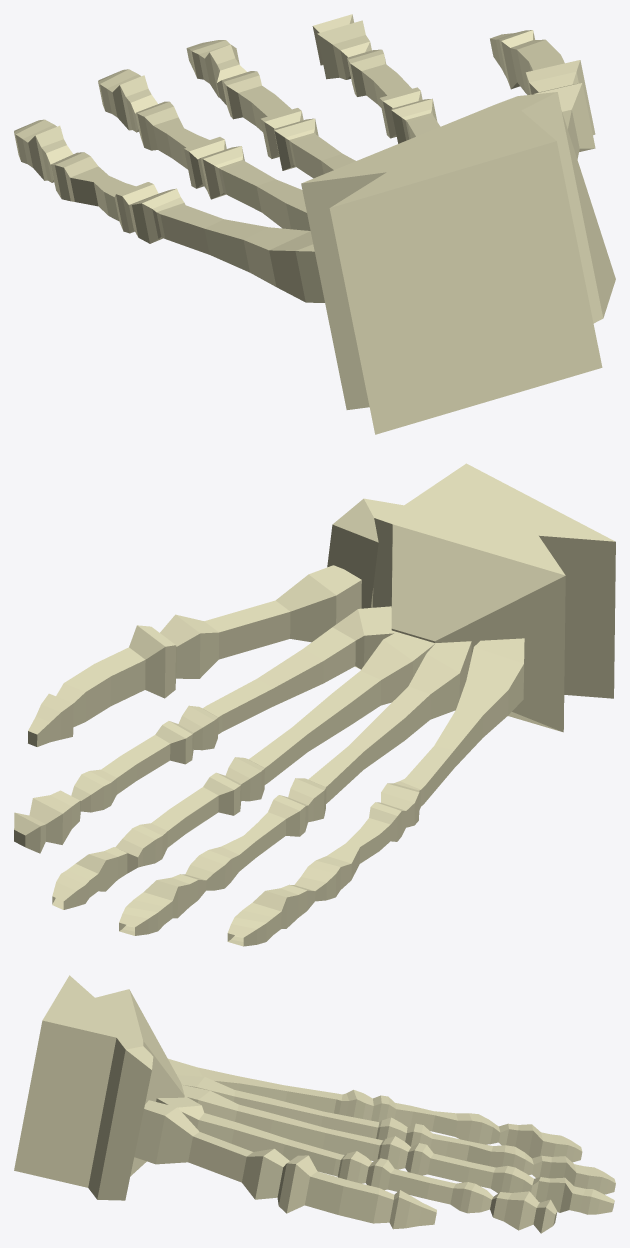
File: skeletonHand.obj
3 renders of one model, top to bottom at view 1: azimuth 30°, elevation 25°; view 2: azimuth 150°, elevation 25°; view 3: azimuth 270°, elevation 25°, orthographic. The views are drawn at different scales.
Parts seen in each view (by area): view 1: Cube.010_Cube.048; view 2: Cube.010_Cube.048; view 3: Cube.010_Cube.048.
Part boxes in pixels (x1,y1,x2,y2): Cube.010_Cube.048: (14, 14, 615, 434); Cube.010_Cube.048: (14, 463, 615, 946); Cube.010_Cube.048: (14, 975, 615, 1233).
Bounding box in the file's own units: 0.2318 × 0.1321 × 0.4002.
1 material, 1 textured.
